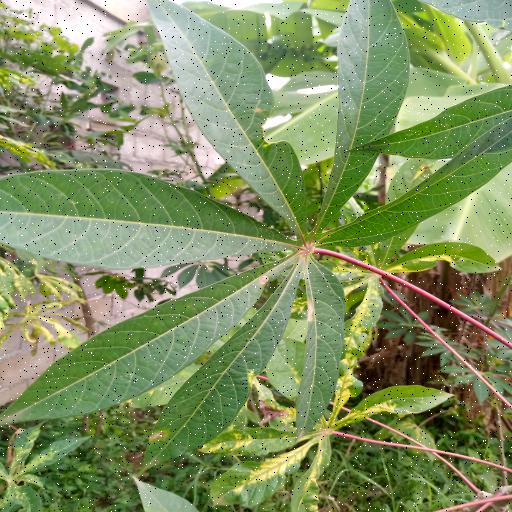Cassava_Mosaic: (0, 0, 512, 474), (194, 326, 436, 509)
